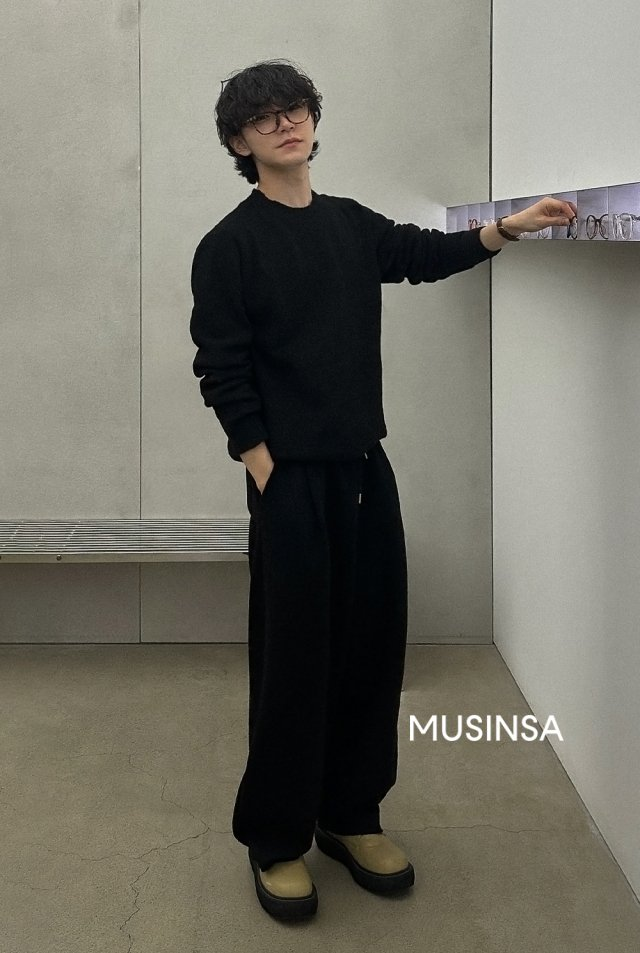Accessories: (490, 209, 524, 255)
Glasses: (235, 92, 323, 137)
Pants: (224, 437, 416, 863)
Shoes: (238, 823, 428, 917)
Top: (186, 178, 494, 459)
